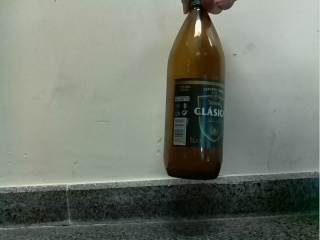pote cristal: (163, 1, 227, 181)
